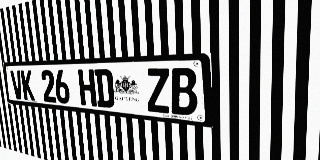2: (40, 70, 56, 103)
6: (53, 70, 70, 104)
B: (170, 68, 198, 116)
D: (94, 69, 115, 108)
H: (78, 69, 97, 107)
K: (20, 70, 35, 101)
V: (10, 70, 24, 100)
Z: (145, 68, 171, 114)
